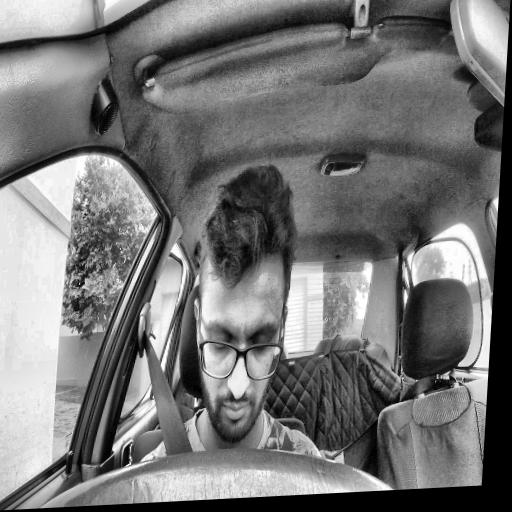drowsy: (185, 165, 300, 446)
